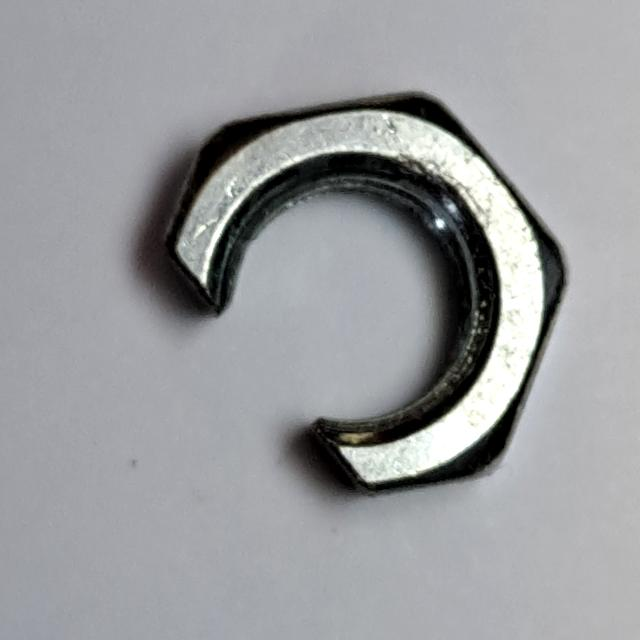Fracture: (145, 85, 581, 508)
